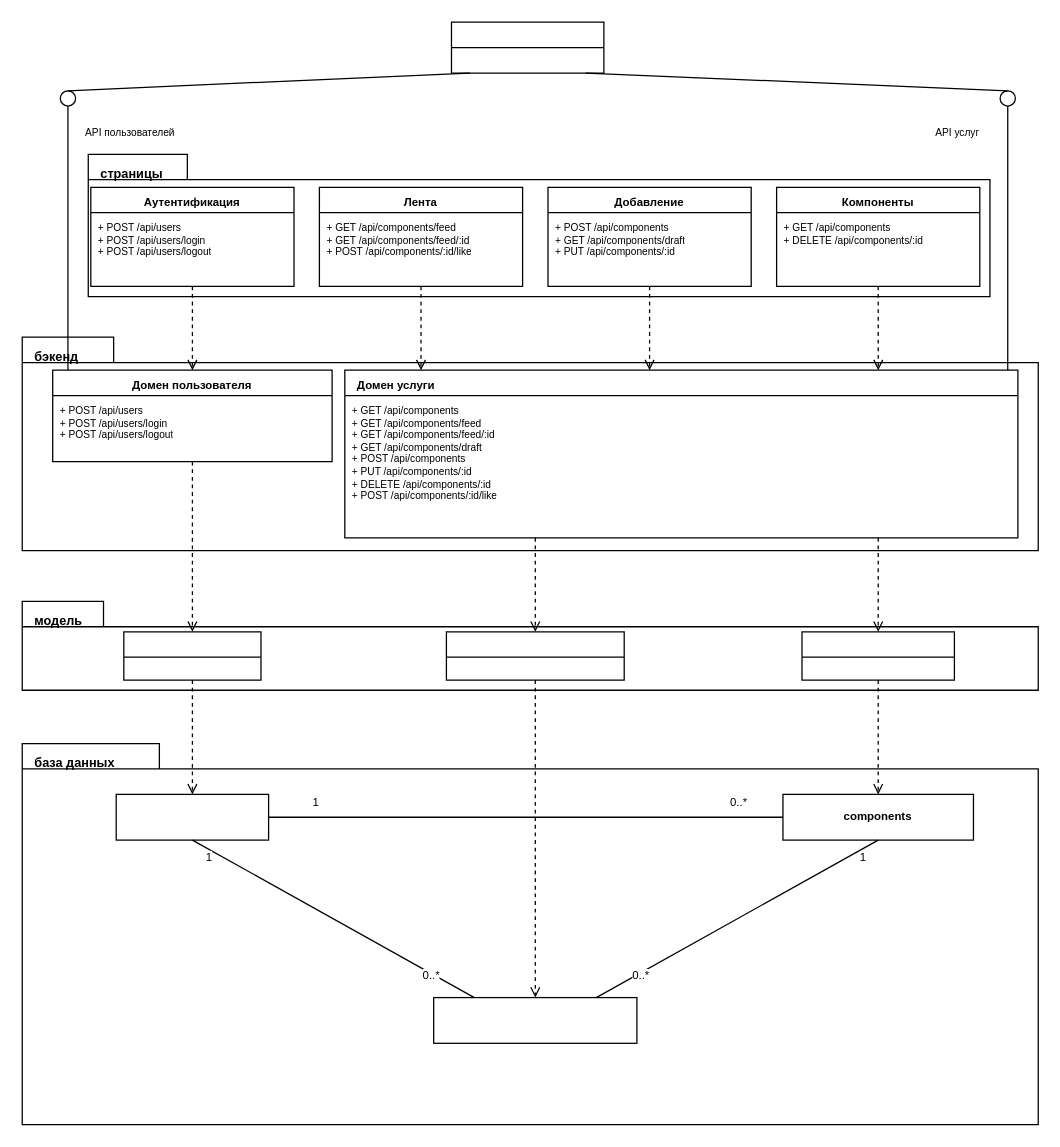
The diagram is 1060 pixels wide and 1147 high, and some of its shapes have lost their labels. Here are the shapes that lost their labels. From the top down, the centre of each, then its label:
At [527,47]: "Postman".
At [192,655]: "User".
At [534,655]: "ComponentLike".
At [877,655]: "Component".
At [192,816]: "users".
At [534,1019]: "component_likes".
